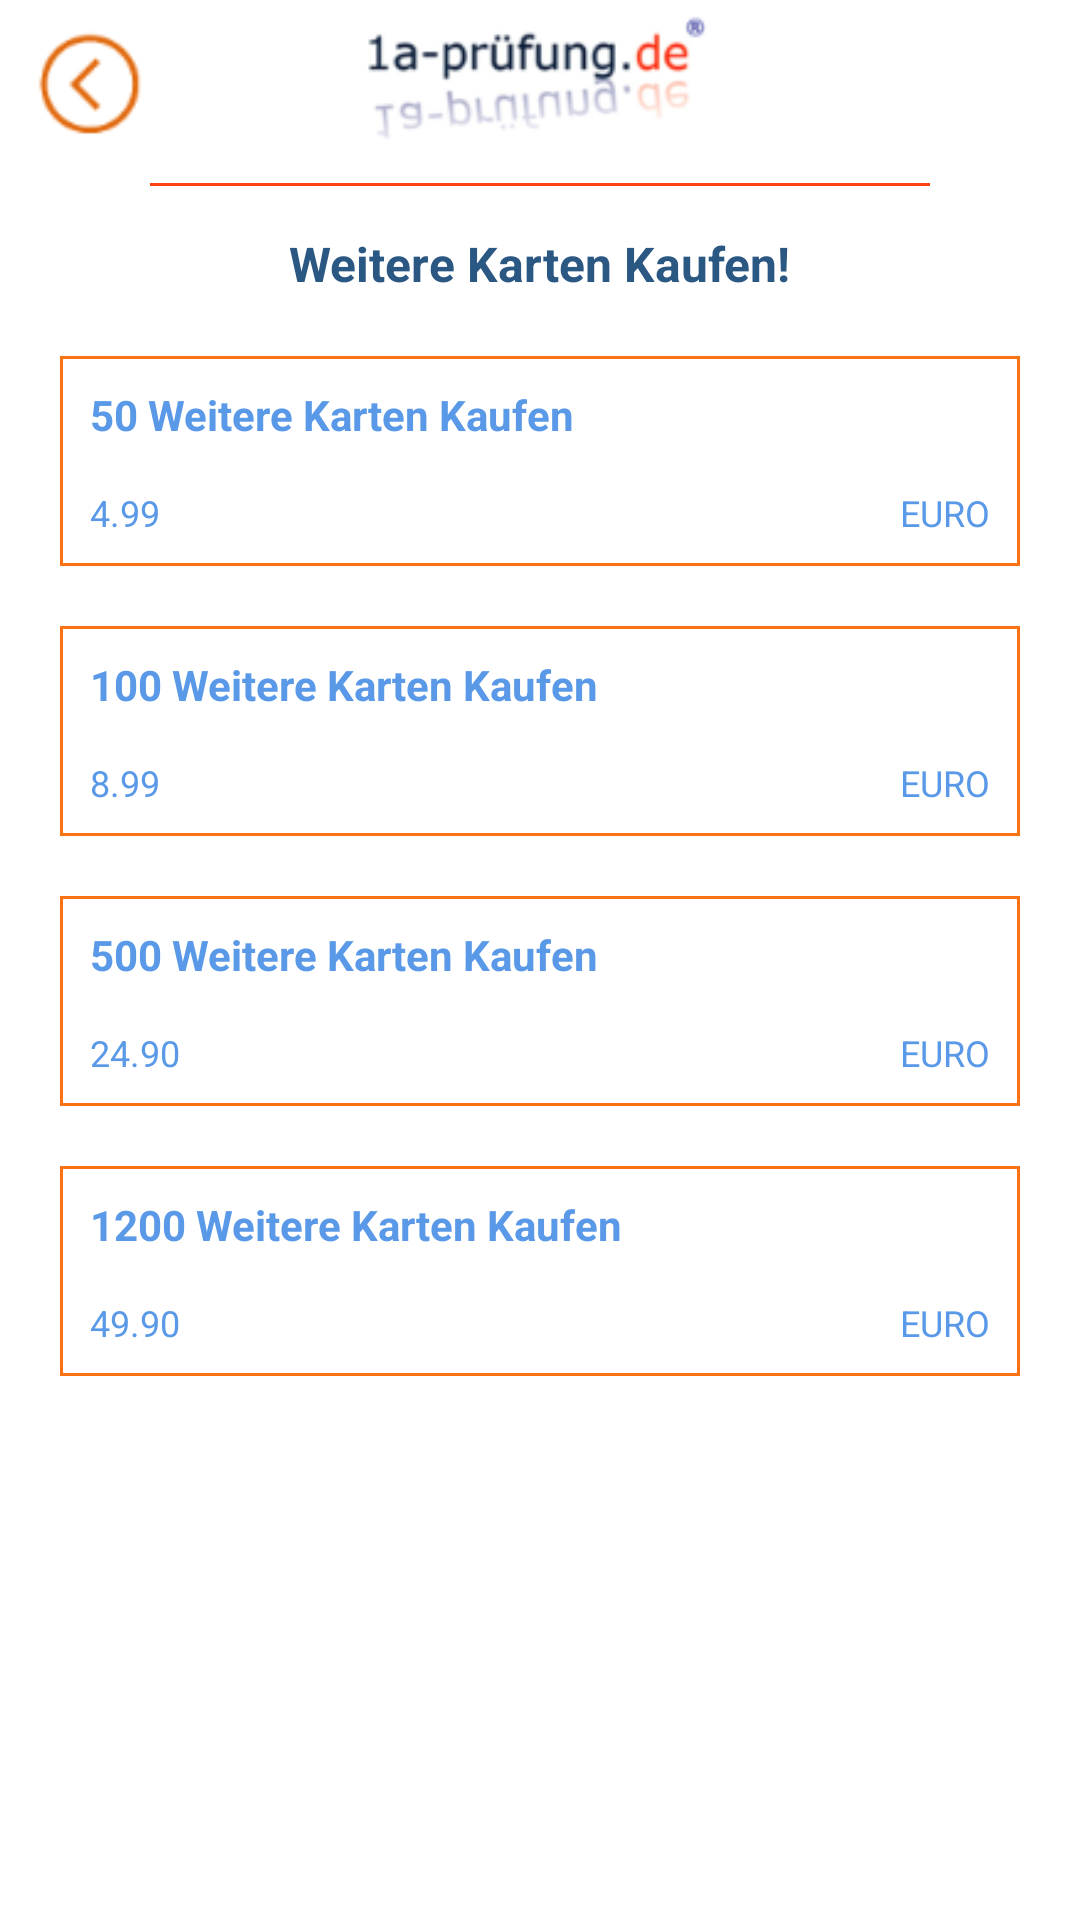

Where to tap for icons on this 1080×1920 app screen, as [x,y]:
back: [90,84]
